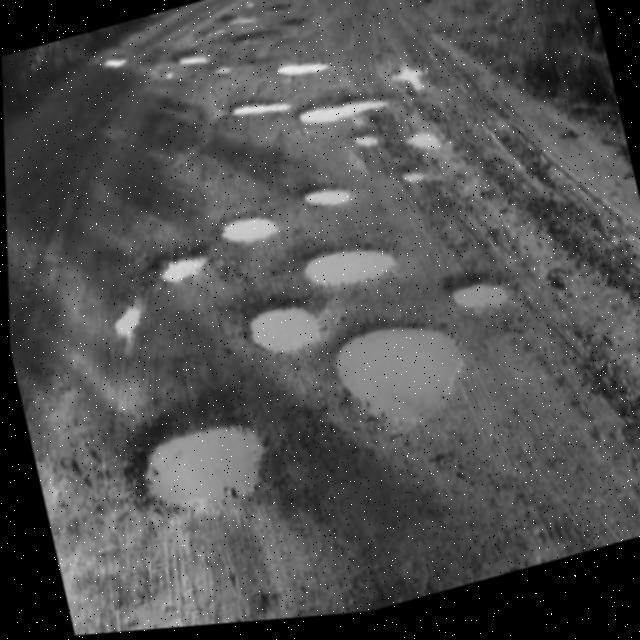Pothole: (319, 289, 478, 463), (117, 386, 285, 550), (303, 533, 488, 621), (225, 265, 337, 392), (284, 61, 400, 150), (433, 249, 525, 349), (208, 179, 290, 275), (137, 221, 218, 310), (81, 272, 155, 367), (290, 158, 369, 240), (220, 80, 300, 148), (395, 112, 454, 186), (378, 38, 435, 108), (271, 41, 336, 100), (161, 29, 214, 88), (347, 119, 387, 174), (393, 153, 431, 209), (218, 0, 263, 41), (204, 46, 238, 98), (96, 44, 132, 81)
